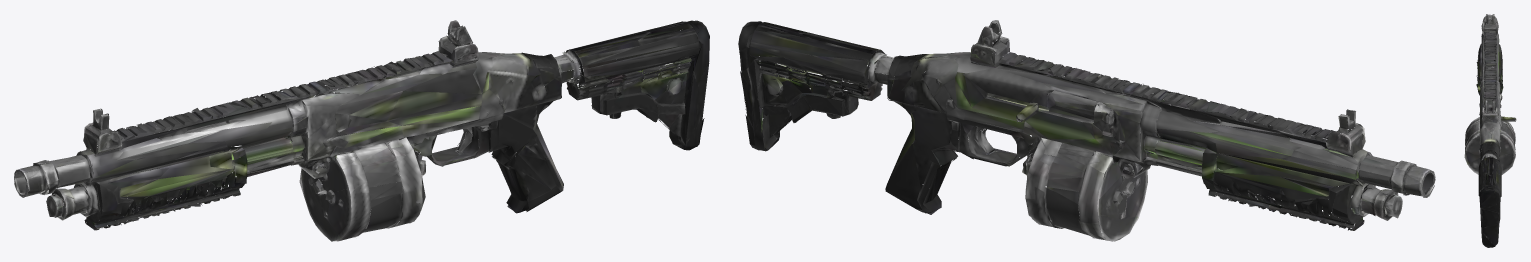
File: gun_autosg_lo.glb
3 views of the same model, side by side, from view 1: azimuth 30°, elevation 25°; view 2: azimuth 150°, elevation 25°; view 3: azimuth 270°, elevation 25° (orthographic). The views are drawn at different scales.
Parts seen in each view (by area): view 1: Mesh_0; view 2: Mesh_0; view 3: Mesh_0.
Boxes of the visible parts, <box> form: Mesh_0: <box>14,20,709,241</box>; Mesh_0: <box>738,20,1435,241</box>; Mesh_0: <box>1464,14,1516,247</box>.
Bounding box in the file's own units: 1.9 × 0.5361 × 0.2511.
Materials: 1 (1 with a texture image).
